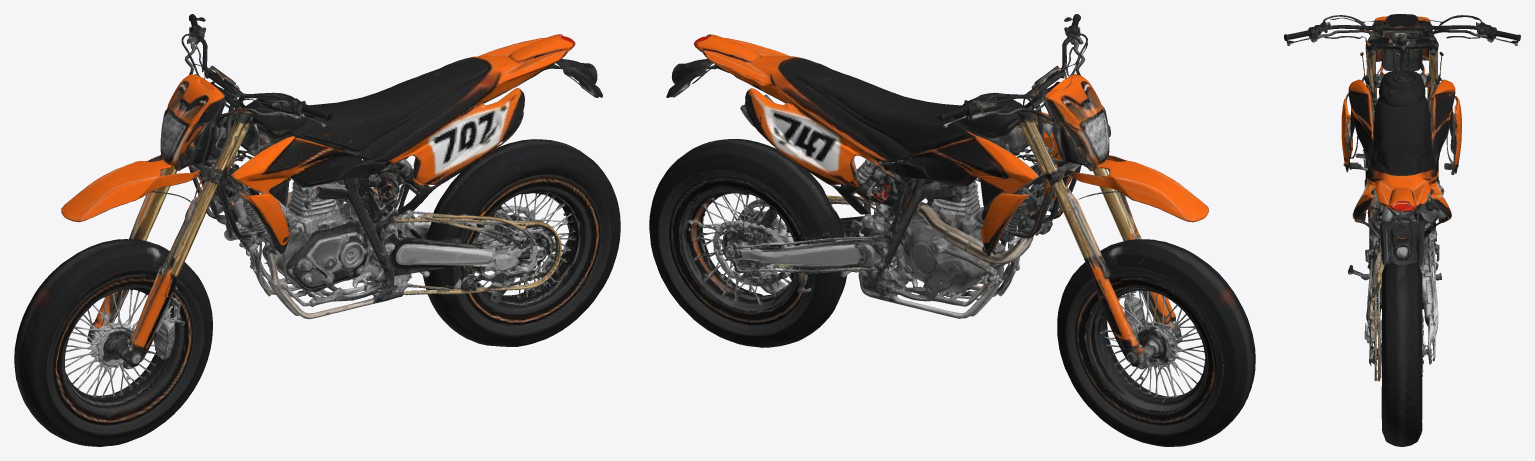
File: Meshy_AI_W_I_P_SM_Model_Reference_20261118_texture_181649tris.glb
The picture shows the model from 3 angles, left to right: view 1: azimuth 30°, elevation 25°; view 2: azimuth 150°, elevation 25°; view 3: azimuth 270°, elevation 25°; orthographic projection. The views are drawn at different scales.
Visible parts, largest first — view 1: Mesh_0; view 2: Mesh_0; view 3: Mesh_0.
Boxes of the visible parts, x1,y1,x2,y2 form: Mesh_0: [14, 14, 620, 446]; Mesh_0: [649, 14, 1255, 446]; Mesh_0: [1284, 14, 1520, 446].
Size of the model in its own units: 190 by 105 by 75.8.
1 material, 1 textured.
